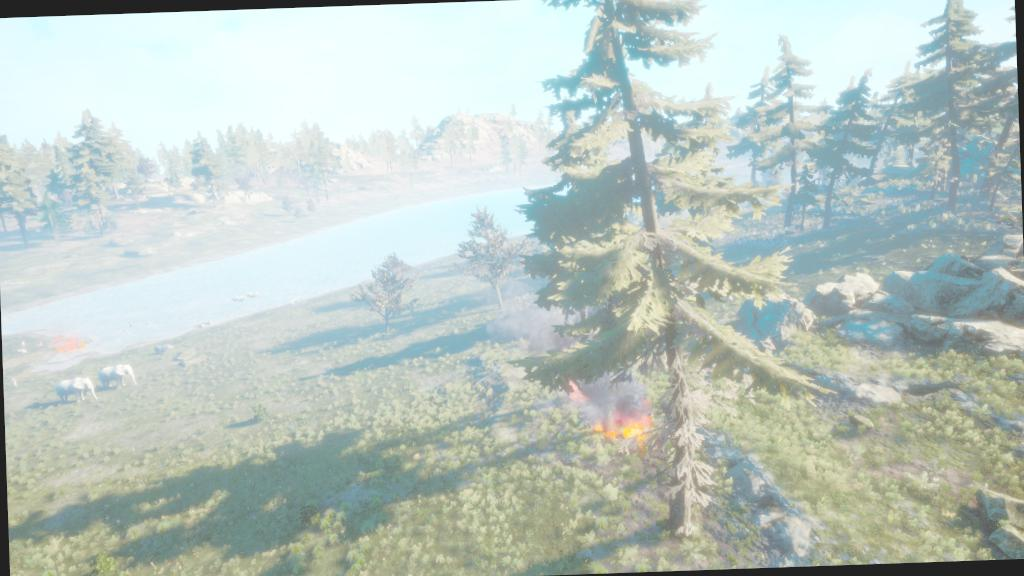Fire: (610, 416, 648, 446), (56, 338, 80, 353)
elephant: (51, 373, 100, 412), (92, 355, 142, 393)
smoke: (582, 376, 639, 410), (520, 308, 560, 350)
